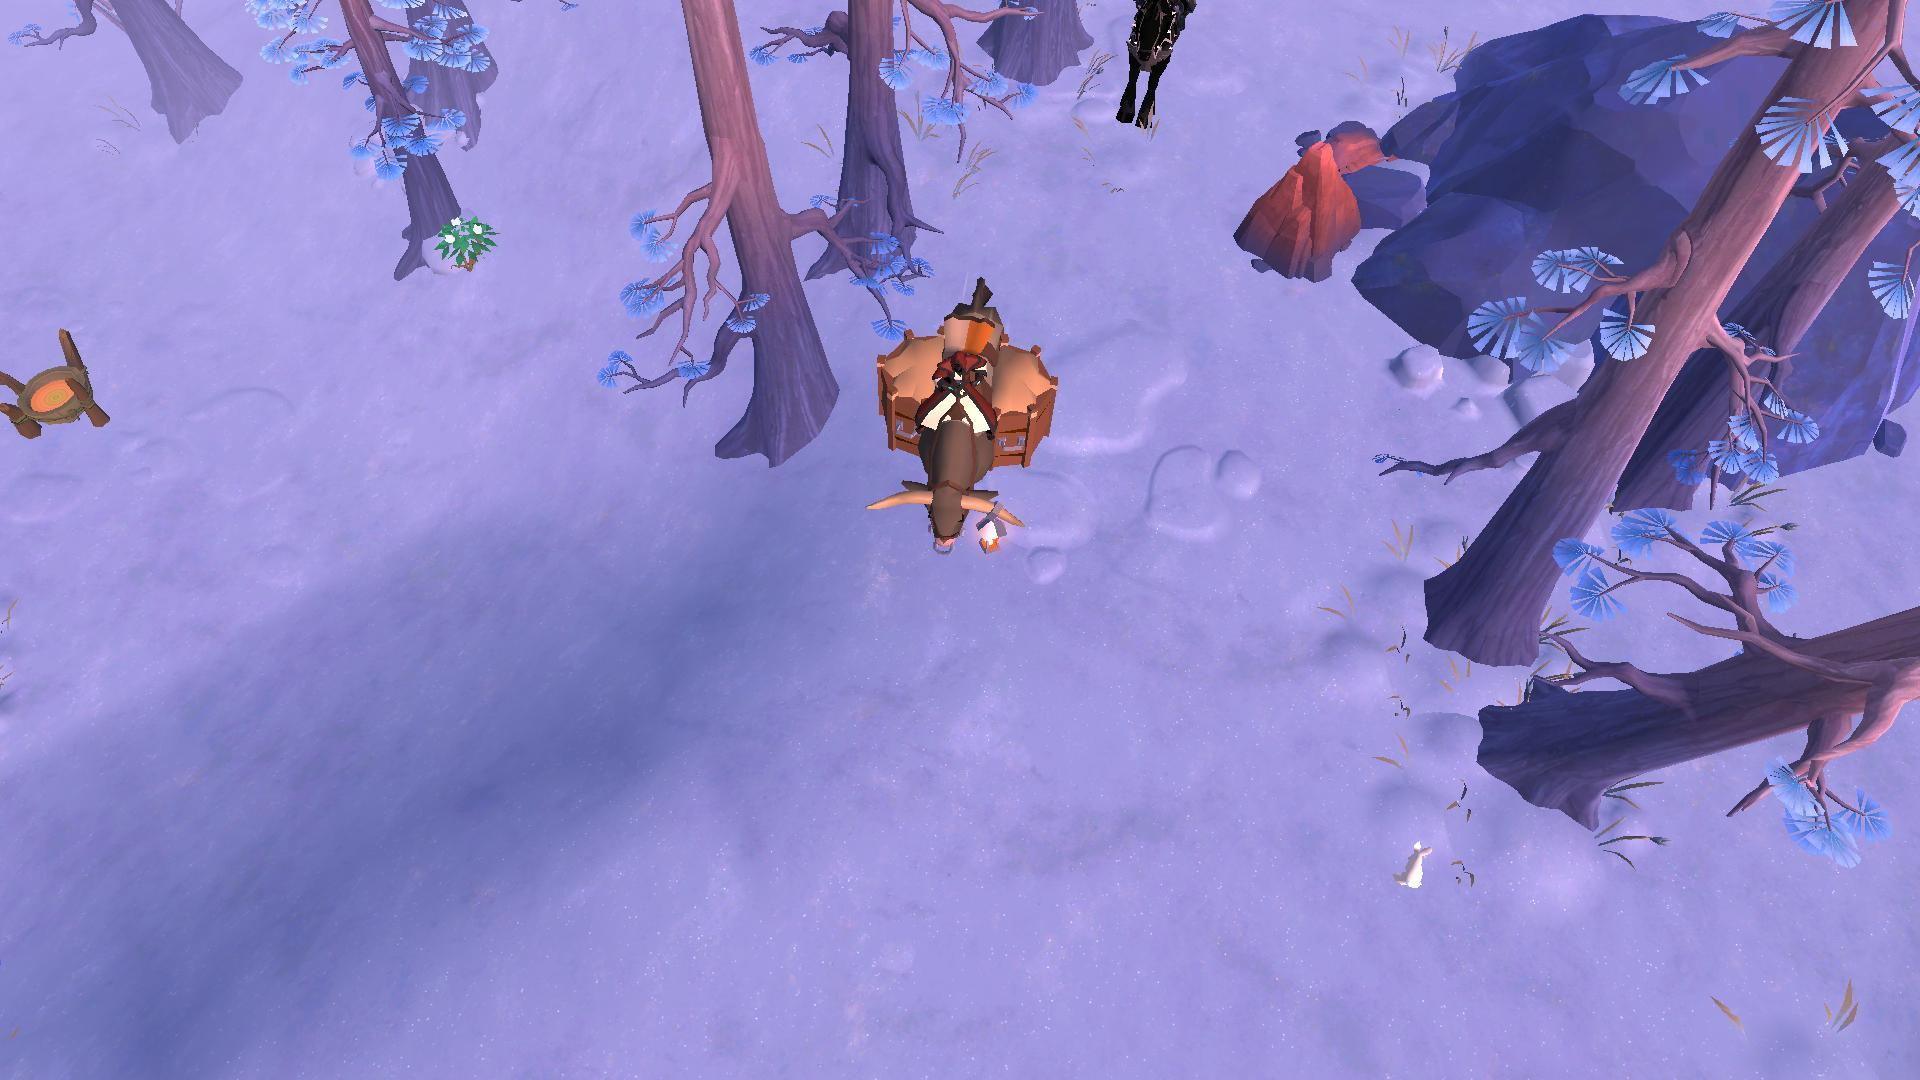fiber_t3: (431, 208, 493, 272)
rock_t5: (1224, 144, 1362, 285)
